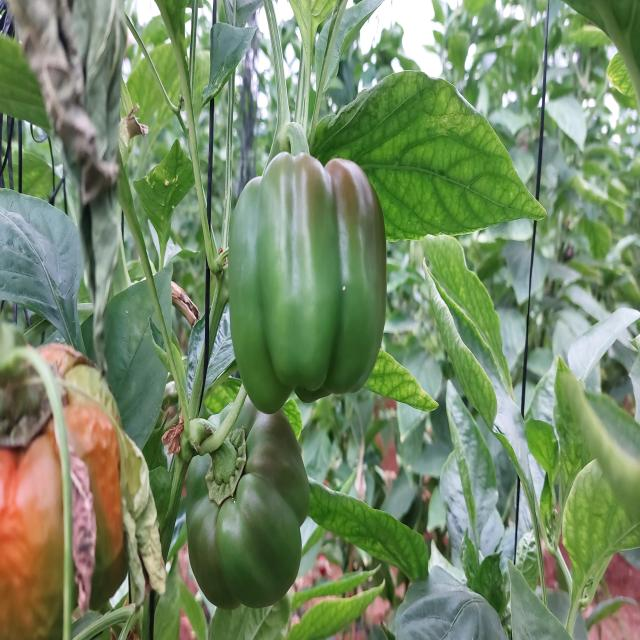Green--Not-ready-to-harvest: (226, 151, 387, 418), (188, 399, 311, 613)
